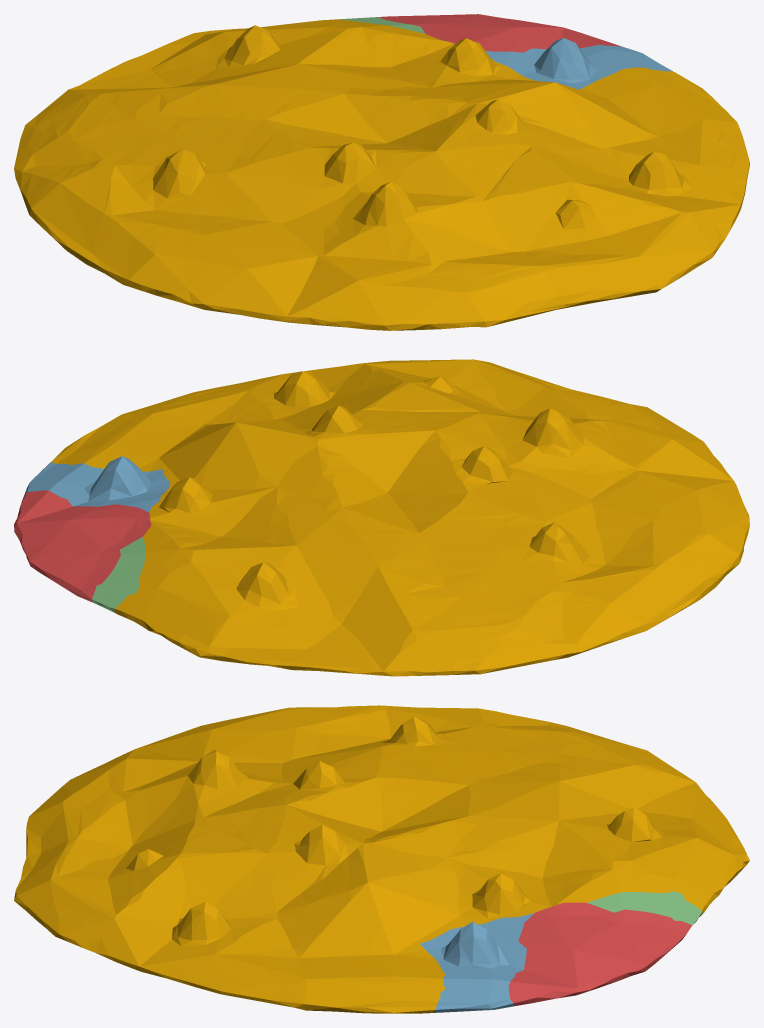
Rendered from fractured_55_4pcs.glb.
3 views of the same model, one above another, from view 1: azimuth 30°, elevation 25°; view 2: azimuth 150°, elevation 25°; view 3: azimuth 270°, elevation 25° (orthographic). The views are drawn at different scales.
Parts seen in each view (by area): view 1: piece_0.obj, piece_2.obj, piece_1.obj; view 2: piece_0.obj, piece_1.obj, piece_2.obj, piece_3.obj; view 3: piece_0.obj, piece_1.obj, piece_2.obj, piece_3.obj.
Part boxes in pixels (x1,y1,x2,y2): piece_0.obj: (14,19,749,330); piece_2.obj: (485,38,672,89); piece_1.obj: (378,14,620,52); piece_0.obj: (49,359,749,676); piece_1.obj: (14,490,151,602); piece_2.obj: (24,456,170,512); piece_3.obj: (92,536,145,613); piece_0.obj: (14,705,749,1013); piece_1.obj: (508,902,692,1006); piece_2.obj: (420,913,534,1012); piece_3.obj: (587,891,702,924).
Bounding box in the file's own units: 0.9812 × 0.1667 × 1.
